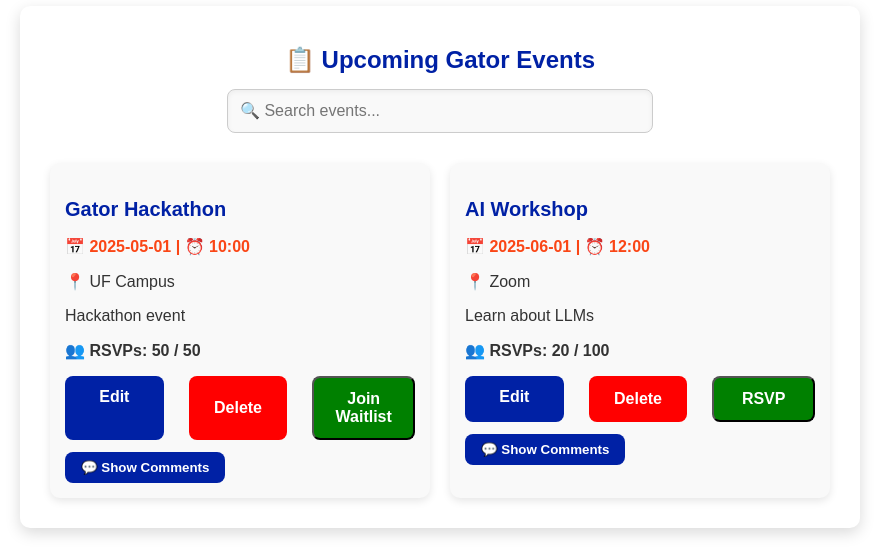
Test: EventList Component › filters events using search input
expect the heading "Gator Hackathon" is shown: met, box [65,198,226,220]
Step 1. Type "AI Workshop" into the field with placeholder "🔍 Search events..." → (440, 111), box [227,89,653,133]
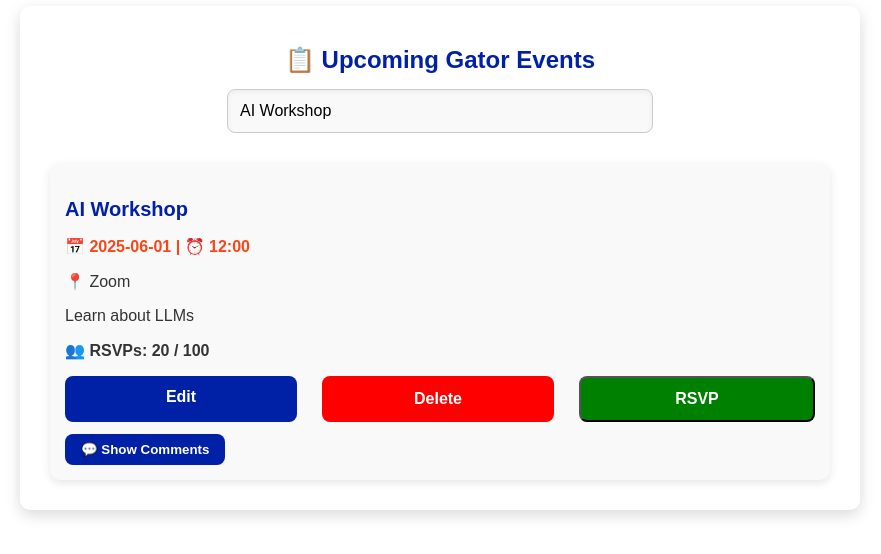
expect the heading "AI Workshop" is shown: met, box [65,198,188,220]
expect the heading "Gator Hackathon" is gone: met
